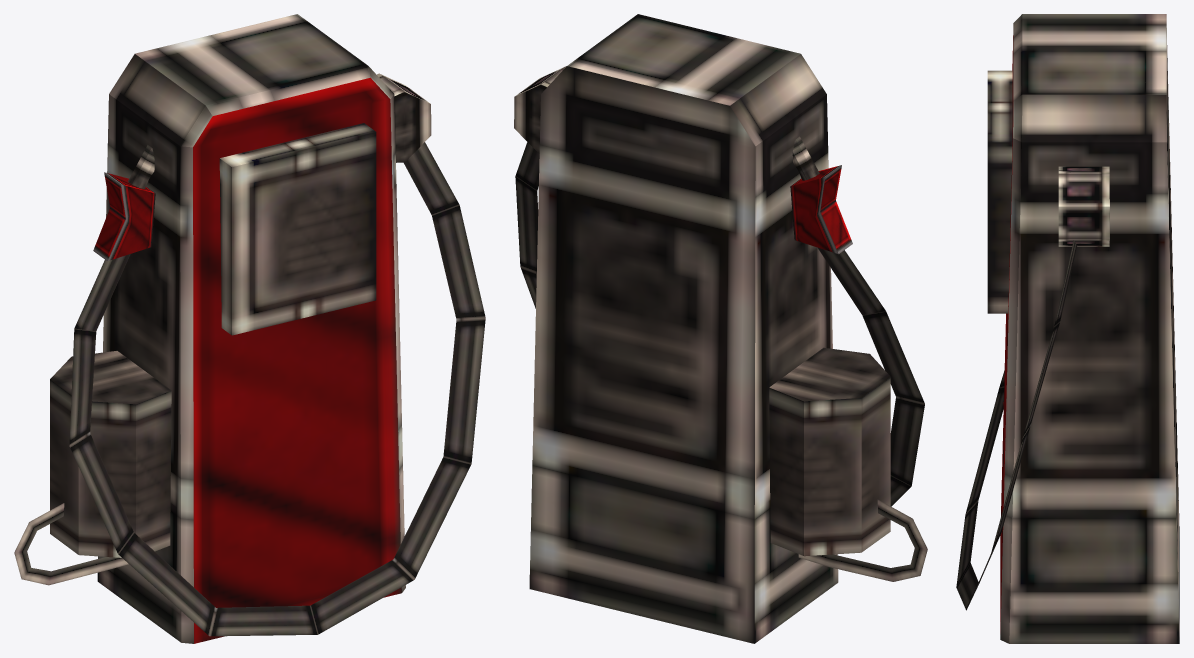
Rendered from Gas_Pump.fbx.
3 views of the same model, side by side, from view 1: azimuth 30°, elevation 25°; view 2: azimuth 150°, elevation 25°; view 3: azimuth 270°, elevation 25° (orthographic).
Visible parts, largest first — view 1: Gas_pump; view 2: Gas_pump; view 3: Gas_pump.
Boxes of the visible parts, x1=… form: Gas_pump: x1=14, y1=14, x2=485, y2=643; Gas_pump: x1=514, y1=14, x2=927, y2=643; Gas_pump: x1=956, y1=14, x2=1179, y2=643.
Size of the model in its own units: 161 by 184 by 69.76.
Materials: 1 (1 with a texture image).
